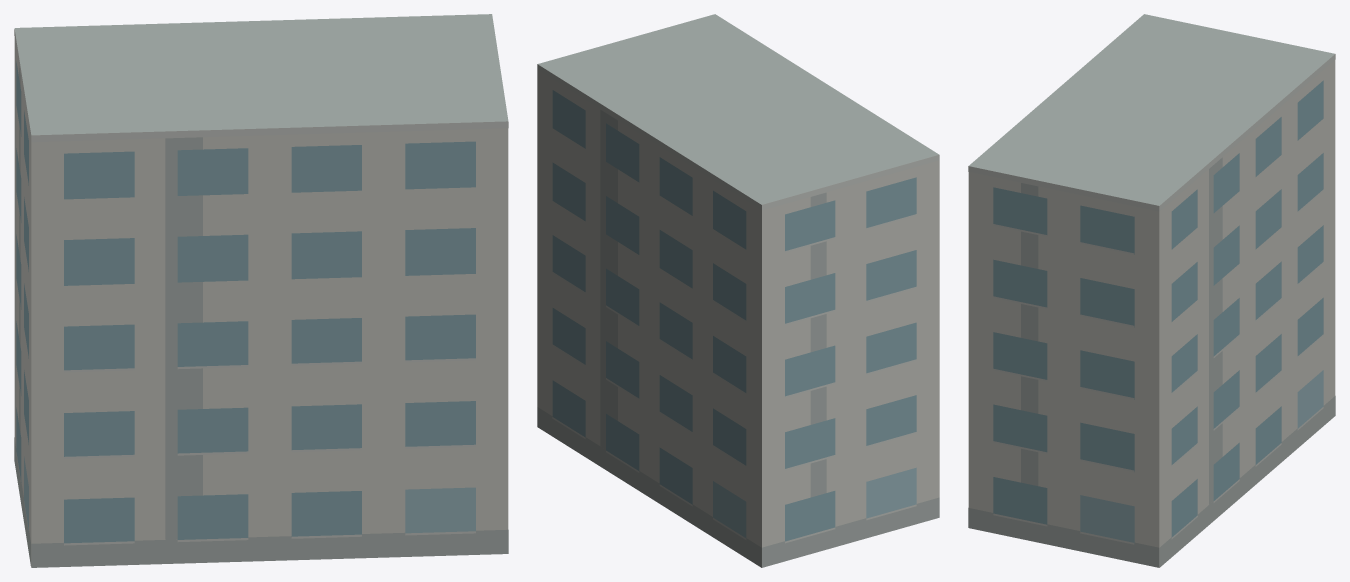
Rendered from survey-upis-33036288.glb.
The picture shows the model from 3 angles, left to right: view 1: azimuth 30°, elevation 25°; view 2: azimuth 150°, elevation 25°; view 3: azimuth 270°, elevation 25°; orthographic projection. The views are drawn at different scales.
Parts seen in each view (by area): view 1: survey-upis-33036288.tmp; view 2: survey-upis-33036288.tmp; view 3: survey-upis-33036288.tmp.
Boxes of the visible parts, x1=… form: survey-upis-33036288.tmp: x1=14, y1=14, x2=508, y2=567; survey-upis-33036288.tmp: x1=537, y1=14, x2=939, y2=567; survey-upis-33036288.tmp: x1=968, y1=14, x2=1335, y2=567.
Size of the model in its own units: 17.3 by 15.2 by 13.98.
